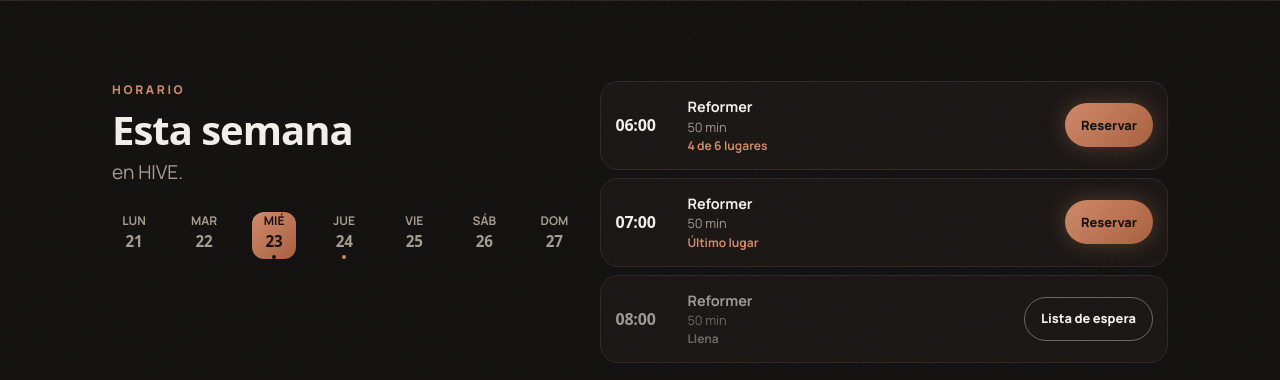
Test: horario › cambiar de día muestra sus clases
Click the button "JUE 24" at (344, 236), box left=322, top=212, right=366, bottom=259
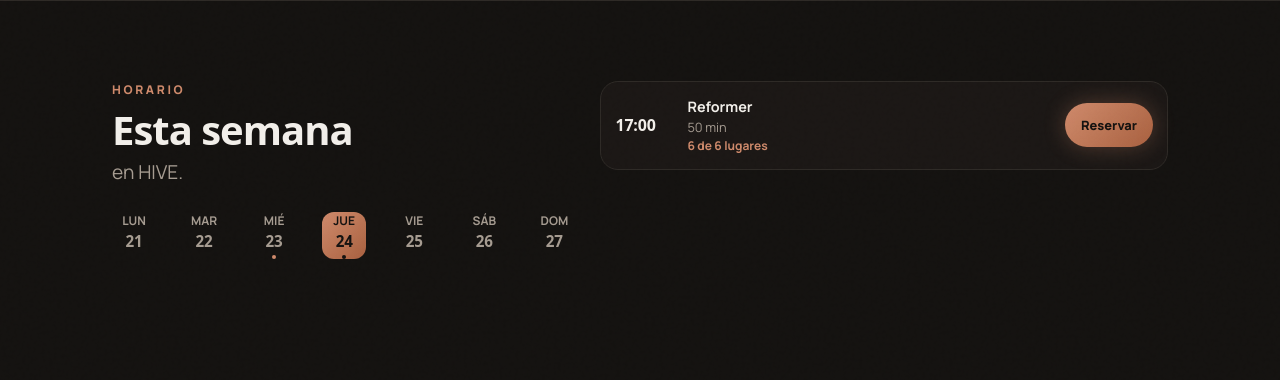
expect the text "17:00" is shown: met, box left=615, top=114, right=656, bottom=136
expect the text "06:00" is gone: met
